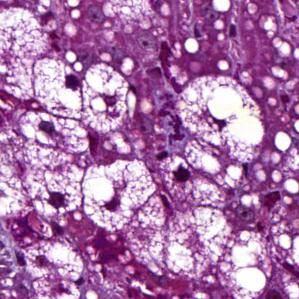ballooning: (174, 73, 267, 168), (78, 156, 160, 233), (22, 146, 90, 221), (79, 63, 138, 134), (34, 55, 84, 122)
